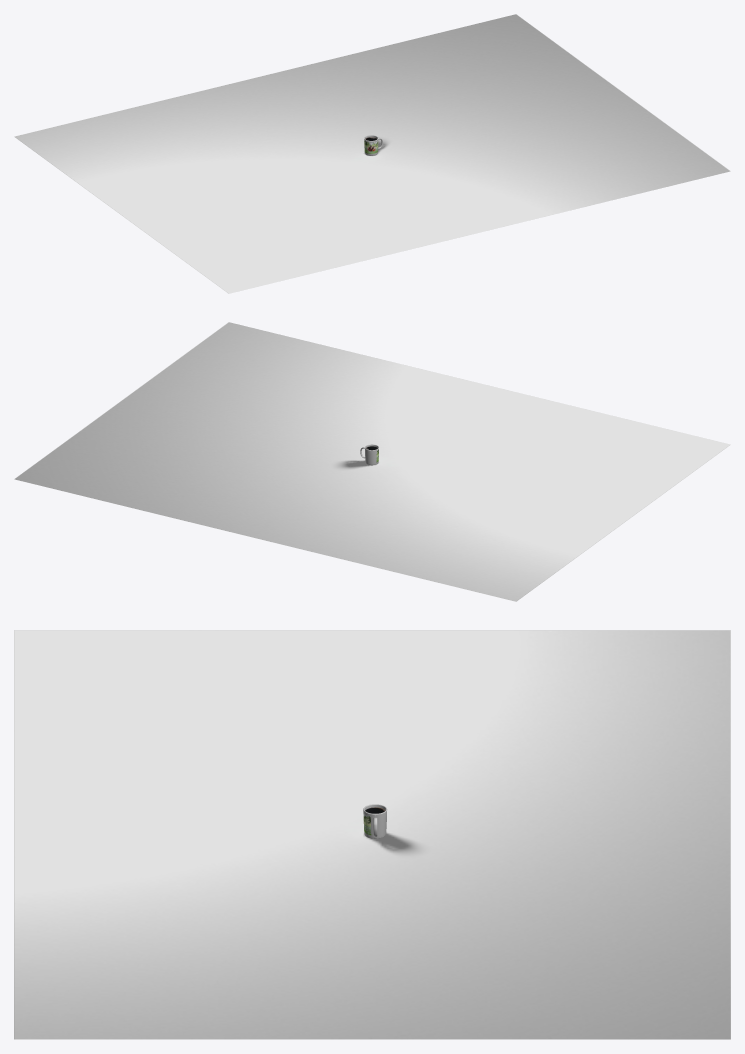
Rendered from cup.dae.
3 renders of one model, top to bottom at view 1: azimuth 30°, elevation 25°; view 2: azimuth 150°, elevation 25°; view 3: azimuth 270°, elevation 25°, orthographic. The views are drawn at different scales.
Parts seen in each view (by area): view 1: cup_3500_polys_photo_and_ground; view 2: cup_3500_polys_photo_and_ground; view 3: cup_3500_polys_photo_and_ground.
Part boxes in pixels (x1,y1,x2,y2): cup_3500_polys_photo_and_ground: (14, 14, 730, 293); cup_3500_polys_photo_and_ground: (14, 322, 730, 601); cup_3500_polys_photo_and_ground: (14, 630, 730, 1039).
Bounding box in the file's own units: 324 × 9.45 × 240.
